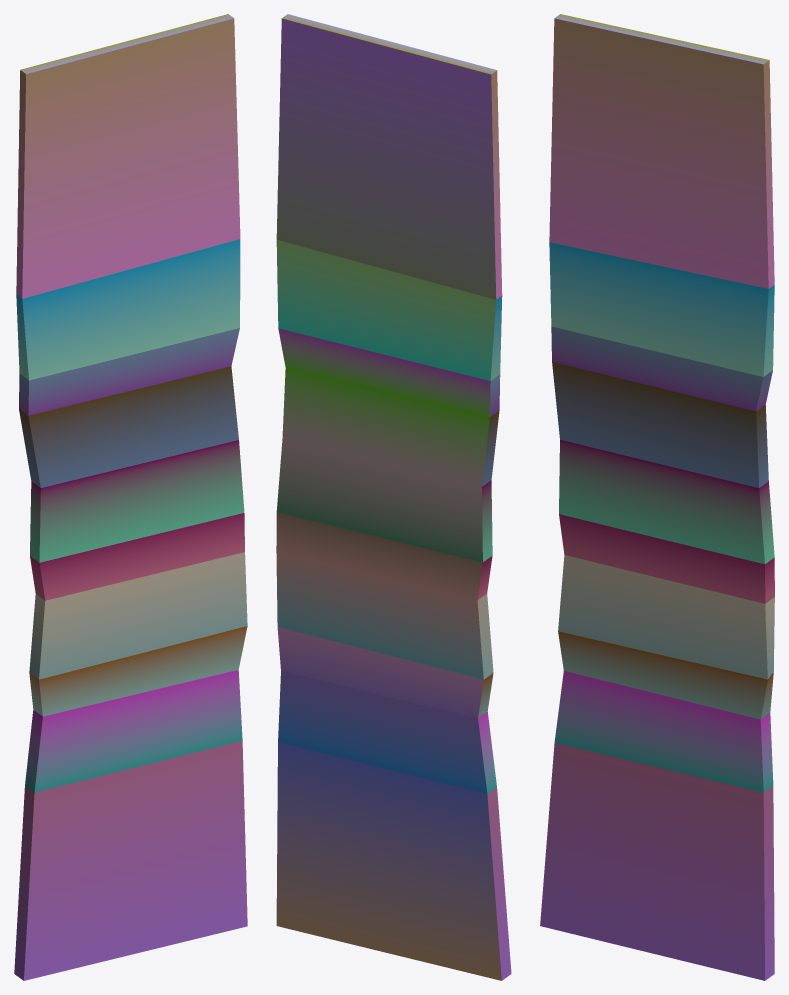
The model's file is Dock_StraightA_lod1.glb.
3 views of the same model, side by side, from view 1: azimuth 30°, elevation 25°; view 2: azimuth 150°, elevation 25°; view 3: azimuth 330°, elevation 25° (orthographic).
Parts seen in each view (by area): view 1: MeshNode_0; view 2: MeshNode_0; view 3: MeshNode_0.
Boxes of the visible parts, left/top/right/bottom form: MeshNode_0: left=14, top=14, right=247, bottom=980; MeshNode_0: left=276, top=14, right=511, bottom=980; MeshNode_0: left=540, top=14, right=774, bottom=980.
Size of the model in its own units: 16.71 by 64.21 by 1.71.
